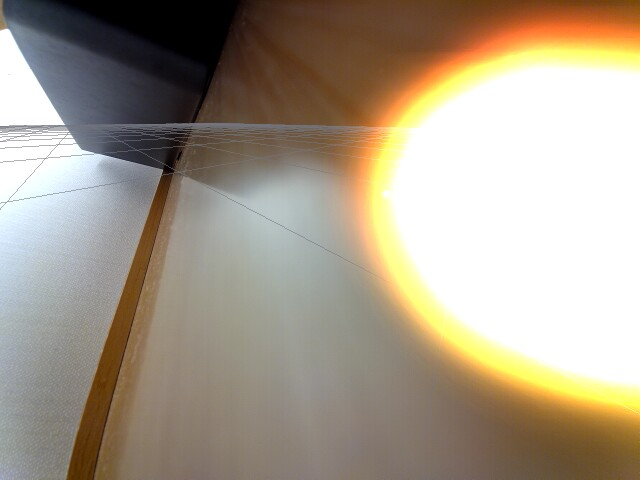firebig: (363, 31, 638, 421)
